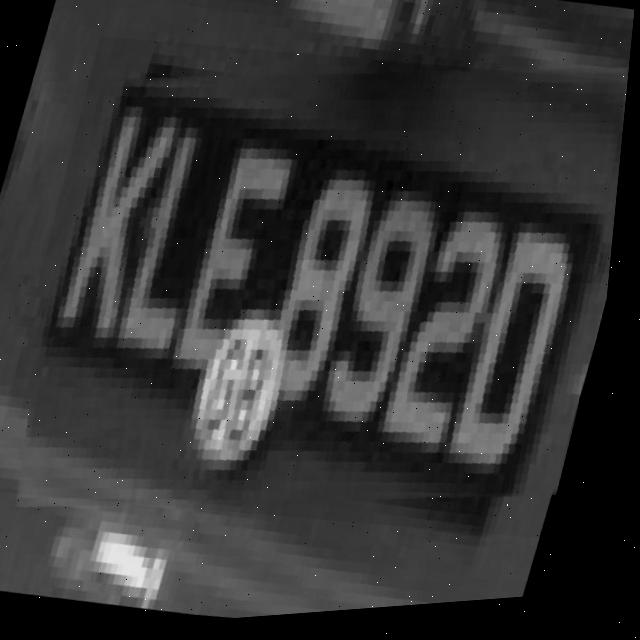LicensePlate: (0, 7, 637, 581)
